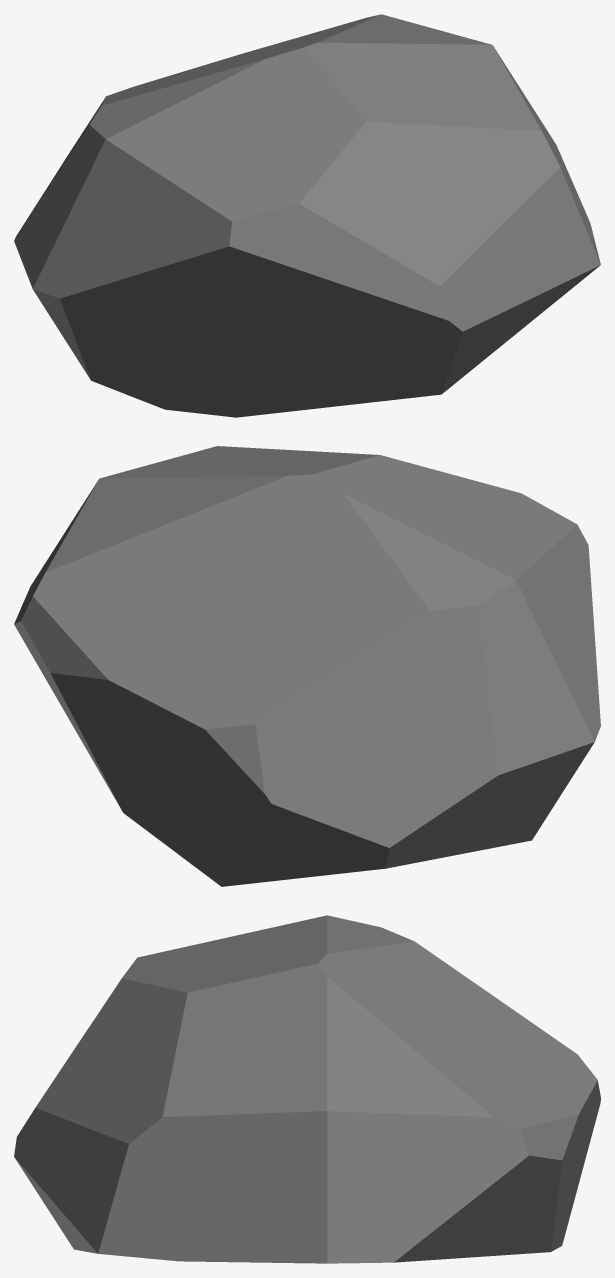
File: SM_Rocks.fbx
The picture shows the model from 3 angles, top to bottom: view 1: azimuth 30°, elevation 25°; view 2: azimuth 150°, elevation 25°; view 3: azimuth 270°, elevation 25°; orthographic projection. The views are drawn at different scales.
Visible parts, largest first — view 1: SM_Rock_1; view 2: SM_Rock_1; view 3: SM_Rock_1.
Boxes of the visible parts, x1,y1,x2,y2 form: SM_Rock_1: (14, 14, 600, 417); SM_Rock_1: (14, 446, 600, 886); SM_Rock_1: (14, 915, 600, 1263).
Size of the model in its own units: 128 by 76.31 by 120.
